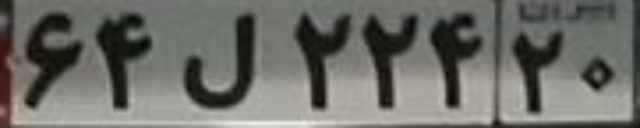0: (579, 56, 621, 92)
2: (357, 12, 418, 109), (292, 14, 352, 110), (511, 30, 565, 112)
4: (93, 13, 160, 109), (428, 12, 485, 109)
6: (22, 11, 86, 112)
lam: (179, 13, 257, 108)
